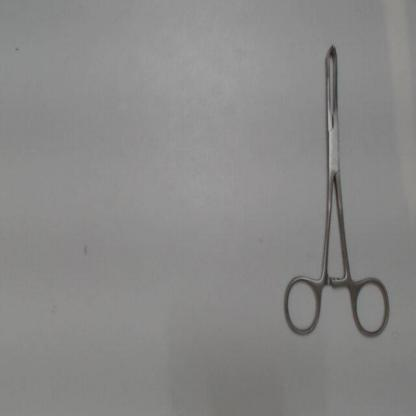Allis Tissue Forceps: (278, 33, 397, 343)
